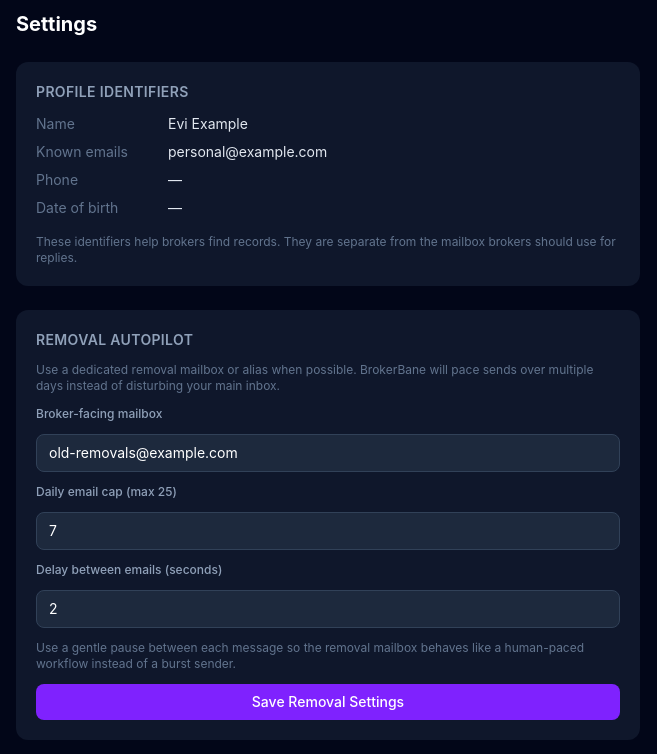
Scenario: Settings removal autopilot controls › rejects invalid broker-facing mailbox before saving
Replace the text in the field showing "old-removals@example.com" with "not-an-email". click: [328, 453]
box: [36,434,620,472]
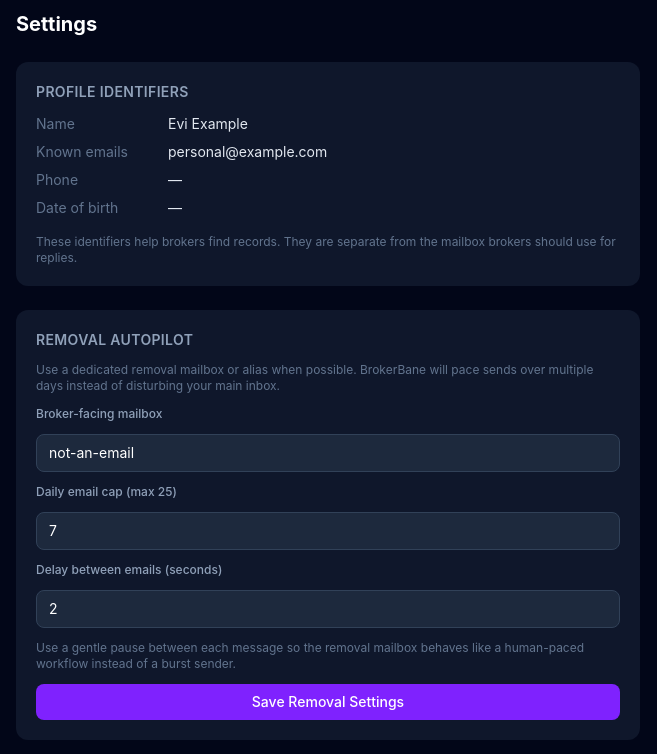
Click the button "Save Removal Settings". click: [328, 702]
box: [36,684,620,720]
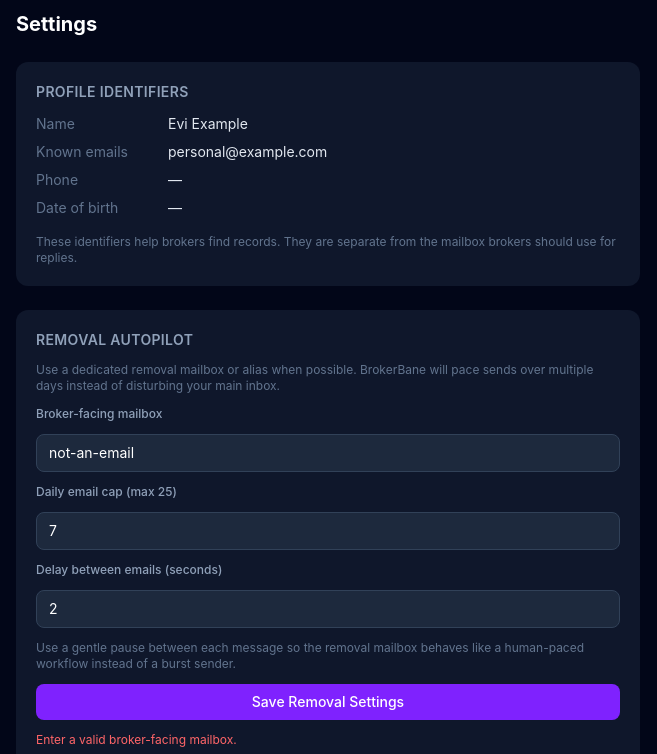
Expected: the text "Enter a valid broker-facing mailbox." is shown, [36,732,237,747]
